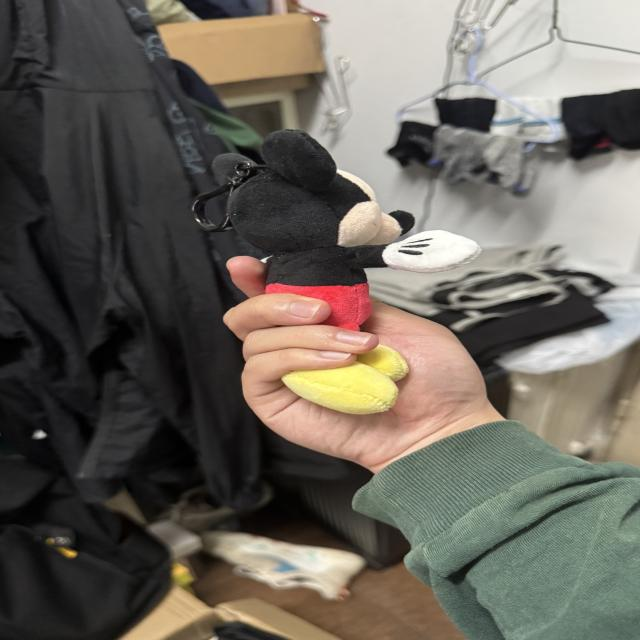mickey: (228, 131, 480, 330)
